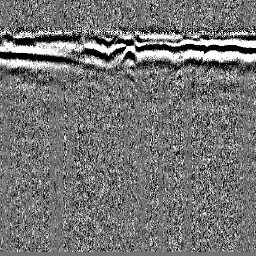cavity: (119, 44, 136, 64)
